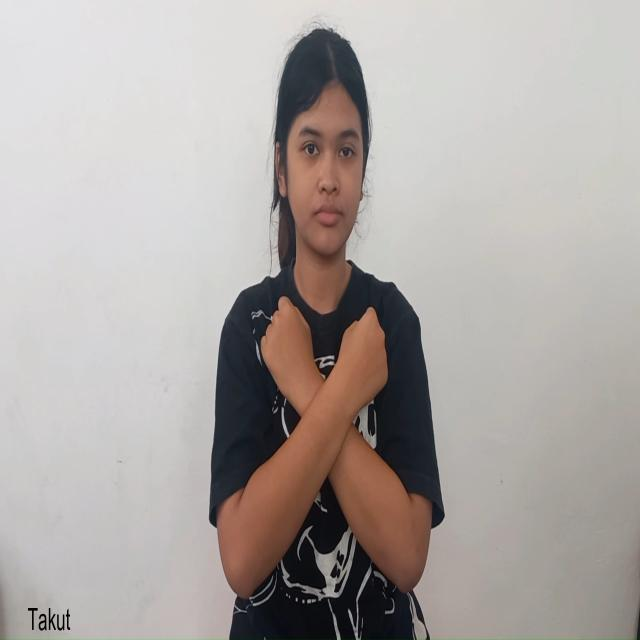Takut -BISINDO-: (235, 295, 412, 601)
